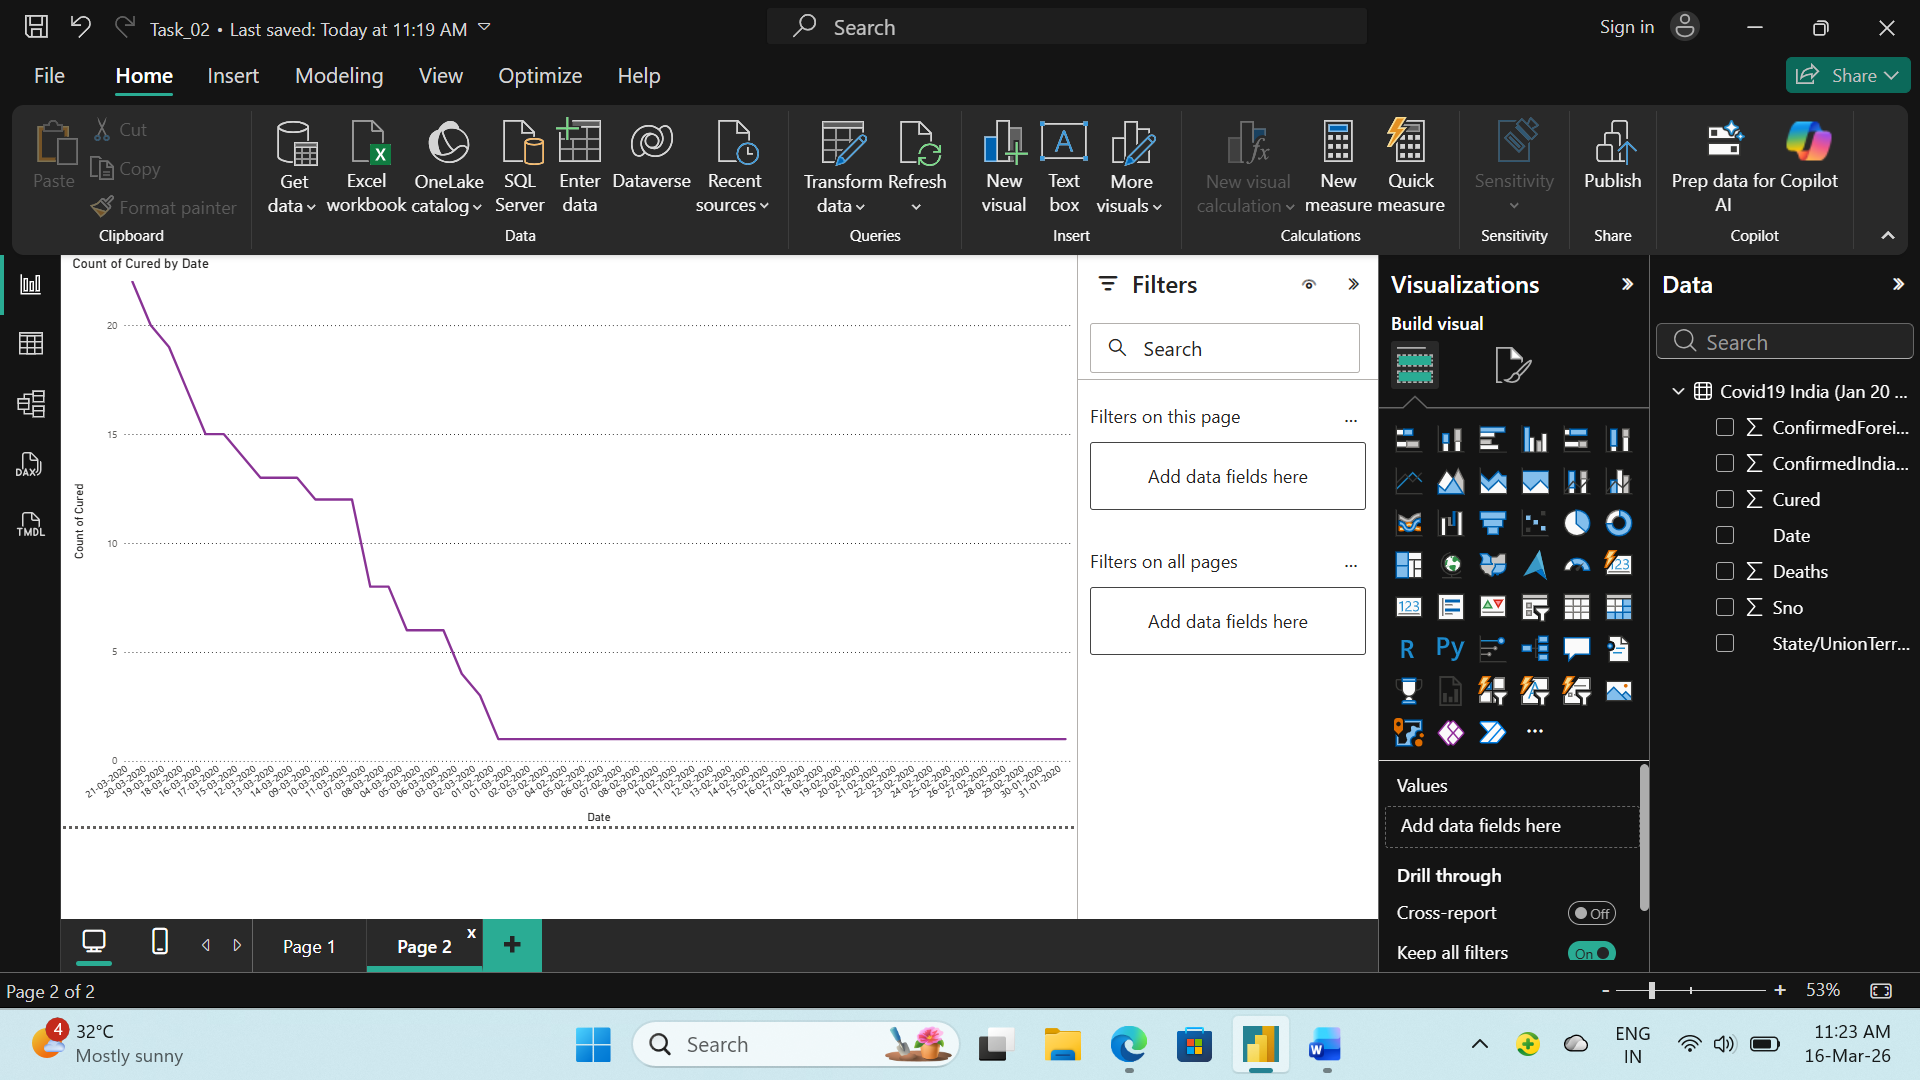

Layout of this report page (visuals, bound fields, positions):
{"tool":"powerbi","page":{"name":"Page 2","canvas":[1280,720],"ordinal":1},"visuals":[{"type":"lineChart","fields":{"Category":["Covid19 India (Jan 20 - Mar 20).Date"],"Y":["CountNonNull(Covid19 India (Jan 20 - Mar 20).Cured)"]},"box":[9.4,0,1269.9,720],"z":0}]}

Visuals, with their boxes on the page's 1280x720 design canvas (x1, y1, x2, y2). These are canvas units, not pixel positions in the 1920x1080 screenshot, which may show the page scaled, cropped or inside an application window:
lineChart - Covid19 India (Jan 20 - Mar 20).Date x CountNonNull(Covid19 India (Jan 20 - Mar 20).Cured): 9,0,1279,720
